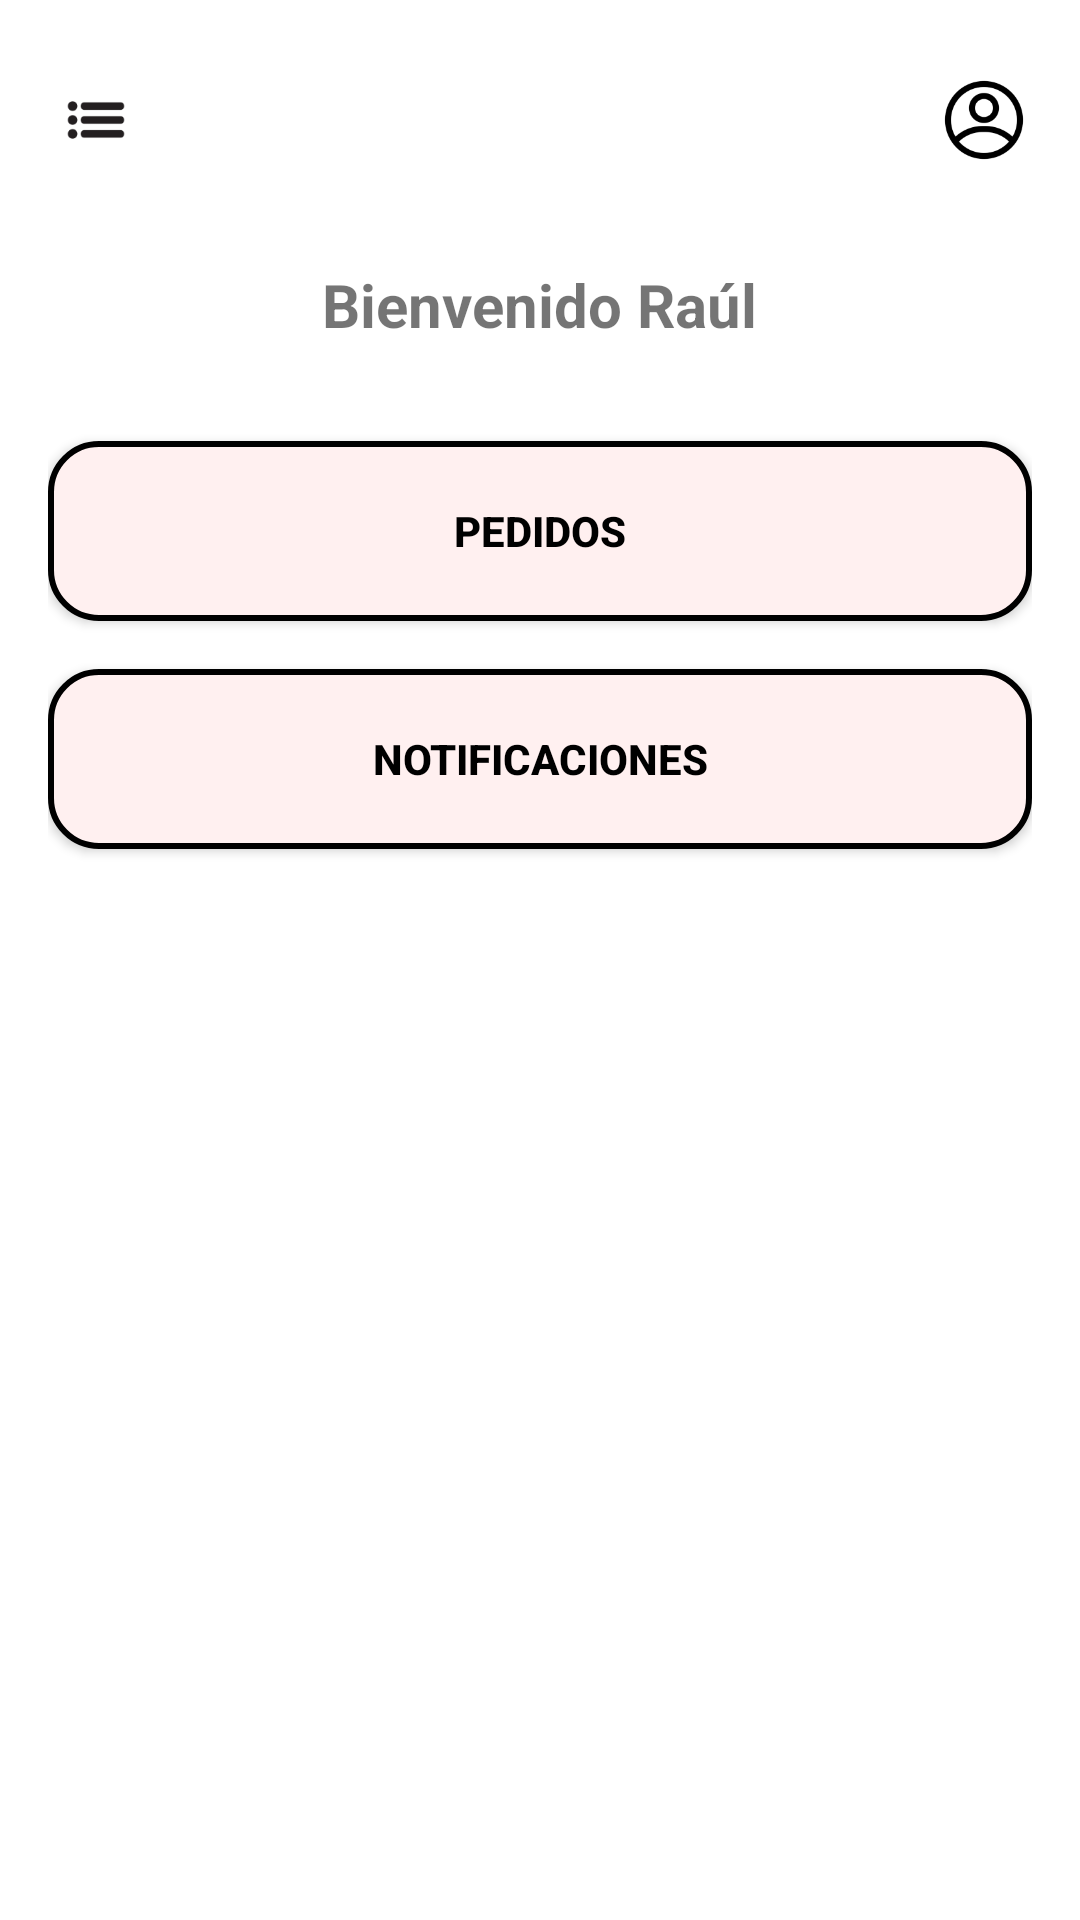

Where icons sit on this 1080px×1920px app screen, as [left=x1, top=y1, right=x2, bottom=y2]:
Menú: [left=67, top=101, right=125, bottom=139]
Perfil: [left=945, top=81, right=1023, bottom=159]
